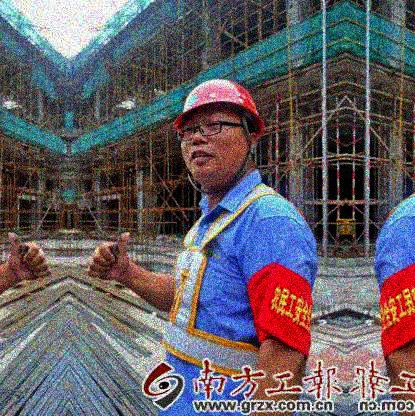helmet: (173, 78, 266, 182)
